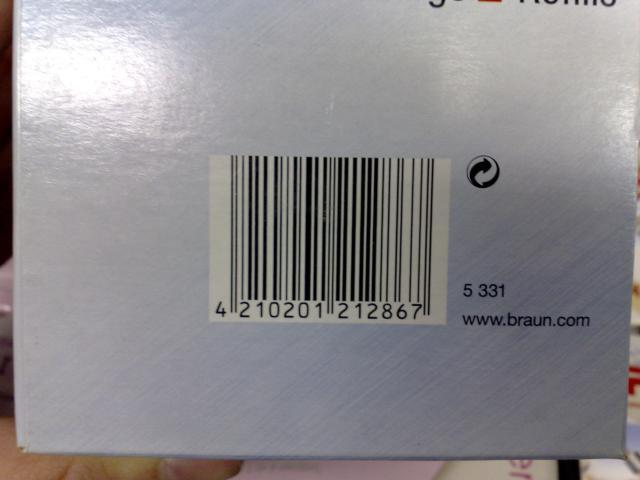Barcode: (208, 155, 449, 327)
